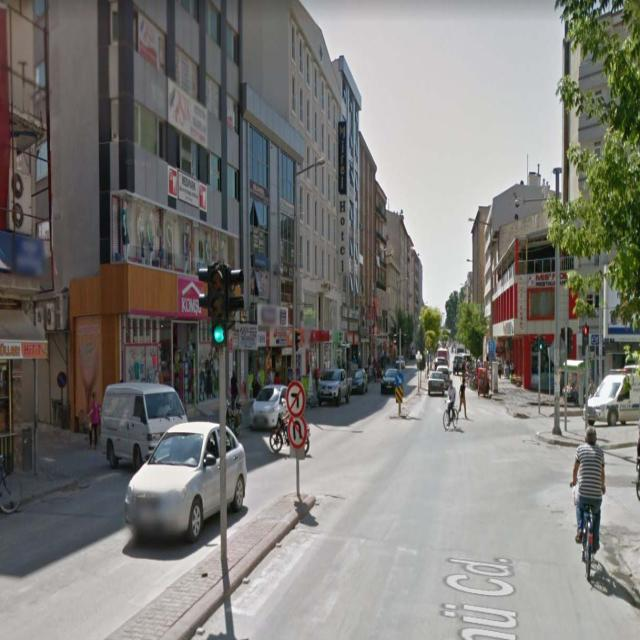soladonulmez: (288, 380, 304, 418)
yesil: (208, 268, 228, 347)
